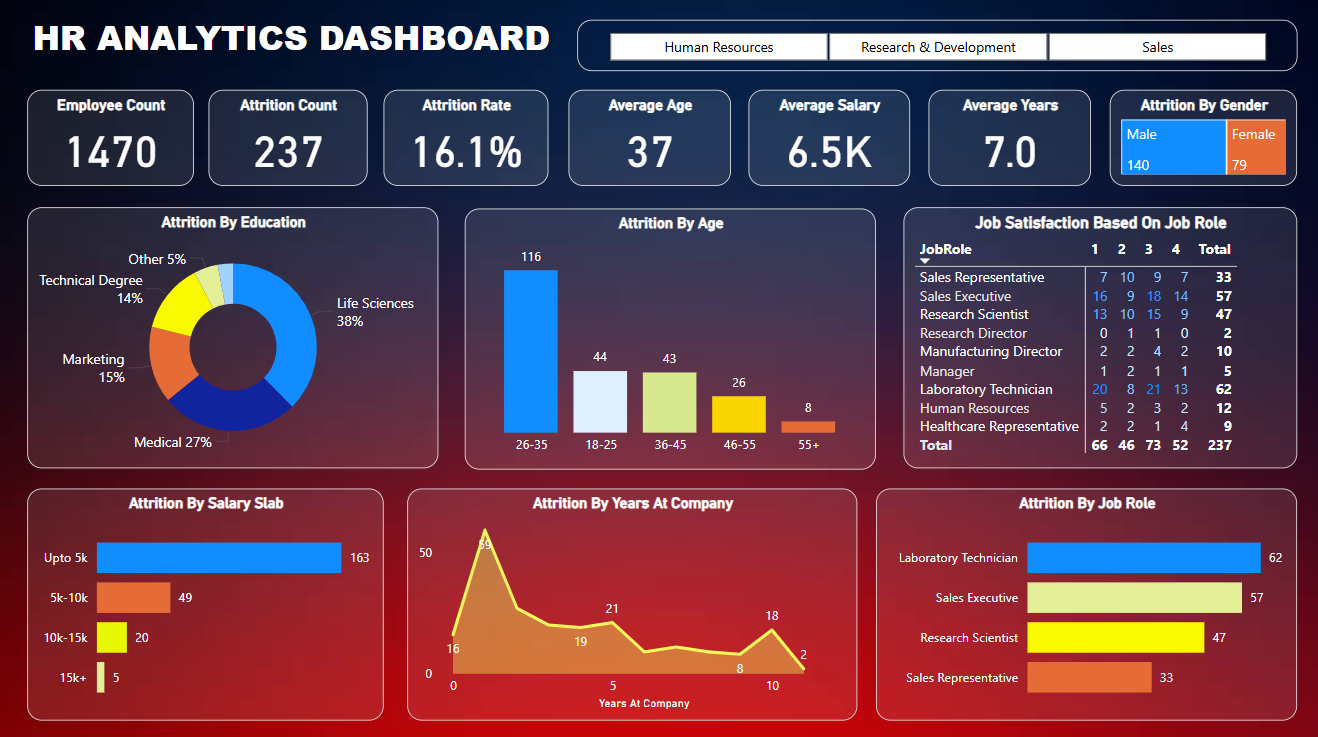

The page's visual inventory and layout, read from the dashboard file:
{"tool":"powerbi","page":{"name":"Page 1","canvas":[1280,720],"ordinal":0},"visuals":[{"type":"card","title":"Employee Count","fields":{"Values":["CountNonNull(HR_Analytics.EmpID)"]},"box":[30.2,90.5,160.5,92.9],"z":0},{"type":"card","title":"Attrition Count","fields":{"Values":["Sum(HR_Analytics.AttritionCount)"]},"box":[205.1,90.5,153.2,92.9],"z":1000},{"type":"card","title":"Attrition Rate","fields":{"Values":["HR_Analytics.AttritionRate"]},"box":[374,90.5,159.3,92.9],"z":2000},{"type":"card","title":"Average Age","fields":{"Values":["Avg(HR_Analytics.Age)"]},"box":[552.5,90.5,156.8,92.9],"z":3000},{"type":"card","title":"Average Salary","fields":{"Values":["Avg(HR_Analytics.MonthlyIncome)"]},"box":[726.3,90.5,155.6,92.9],"z":4000},{"type":"card","title":"Average Years","fields":{"Values":["Avg(HR_Analytics.YearsAtCompany)"]},"box":[900,90.5,156.8,92.9],"z":5000},{"type":"donutChart","title":"Attrition By Education","fields":{"Category":["HR_Analytics.EducationField"],"Y":["Sum(HR_Analytics.AttritionCount)"]},"box":[30.2,203.9,396.9,252.1],"z":6000},{"type":"columnChart","title":"Attrition By Age","fields":{"Category":["HR_Analytics.AgeGroup"],"Y":["Sum(HR_Analytics.AttritionCount)"]},"box":[452.4,205.1,396.9,252.1],"z":7000},{"type":"pivotTable","title":"Job Satisfaction Based On Job Role","fields":{"Rows":["HR_Analytics.JobRole"],"Columns":["HR_Analytics.JobSatisfaction"],"Values":["Sum(HR_Analytics.AttritionCount)"]},"box":[875.9,203.9,380,252.1],"z":8000},{"type":"barChart","title":"Attrition By Salary Slab","fields":{"Category":["HR_Analytics.SalarySlab"],"Y":["Sum(HR_Analytics.AttritionCount)"]},"box":[30.2,475.3,343.8,224.4],"z":9000},{"type":"barChart","title":"Attrition By Job Role","fields":{"Category":["HR_Analytics.JobRole"],"Y":["Sum(HR_Analytics.AttritionCount)"]},"box":[849.3,475.3,406.6,224.4],"z":10000},{"type":"areaChart","title":"Attrition By Years At Company","fields":{"Category":["HR_Analytics.YearsAtCompany"],"Y":["Sum(HR_Analytics.AttritionCount)"]},"box":[396.9,475.3,434.3,224.4],"z":11000},{"type":"treemap","title":"Attrition By Gender","fields":{"Group":["HR_Analytics.Gender"],"Values":["Sum(HR_Analytics.AttritionCount)"]},"box":[1074.9,90.5,181,92.9],"z":12000},{"type":"slicer","fields":{"Values":["HR_Analytics.Department"]},"box":[561,22.9,694.9,49.5],"z":13000},{"type":"textbox","box":[30.2,12.1,542.9,72.4],"z":14000}]}

Visuals, with their boxes in screenshot pixels (x1, y1, x2, y2), scaled from the page's 1280x720 canvas onto the 1318x737 screenshot:
"Employee Count" card: (31, 93, 196, 188)
"Attrition Count" card: (211, 93, 369, 188)
"Attrition Rate" card: (385, 93, 549, 188)
"Average Age" card: (569, 93, 730, 188)
"Average Salary" card: (748, 93, 908, 188)
"Average Years" card: (927, 93, 1088, 188)
"Attrition By Education" donutChart: (31, 209, 440, 467)
"Attrition By Age" columnChart: (466, 210, 875, 468)
"Job Satisfaction Based On Job Role" pivotTable: (902, 209, 1293, 467)
"Attrition By Salary Slab" barChart: (31, 487, 385, 716)
"Attrition By Job Role" barChart: (875, 487, 1293, 716)
"Attrition By Years At Company" areaChart: (409, 487, 856, 716)
"Attrition By Gender" treemap: (1107, 93, 1293, 188)
slicer - HR_Analytics.Department: (578, 23, 1293, 74)
textbox: (31, 12, 590, 86)
